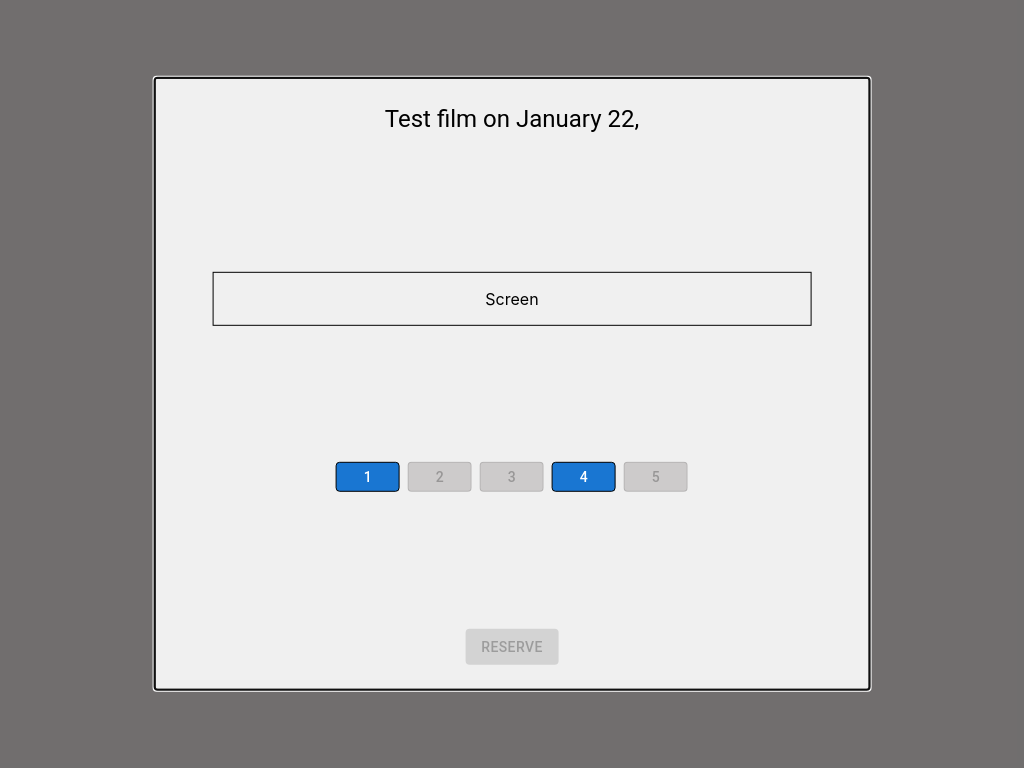
Choose Places Component › should enable button after selecting a place
The image size is (1024, 768).
Click the button with test id "seatButton".
click(368, 477)  # box [336,462,400,492]
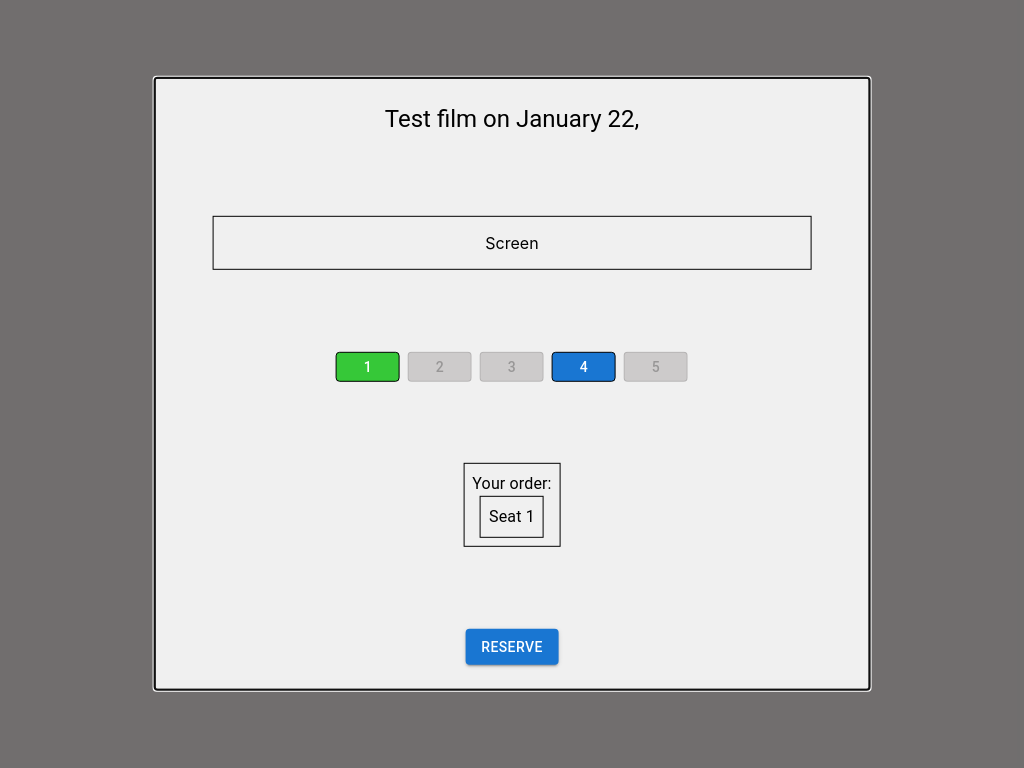
Check: the button "Reserve" is enabled, box [465,629,559,665]
